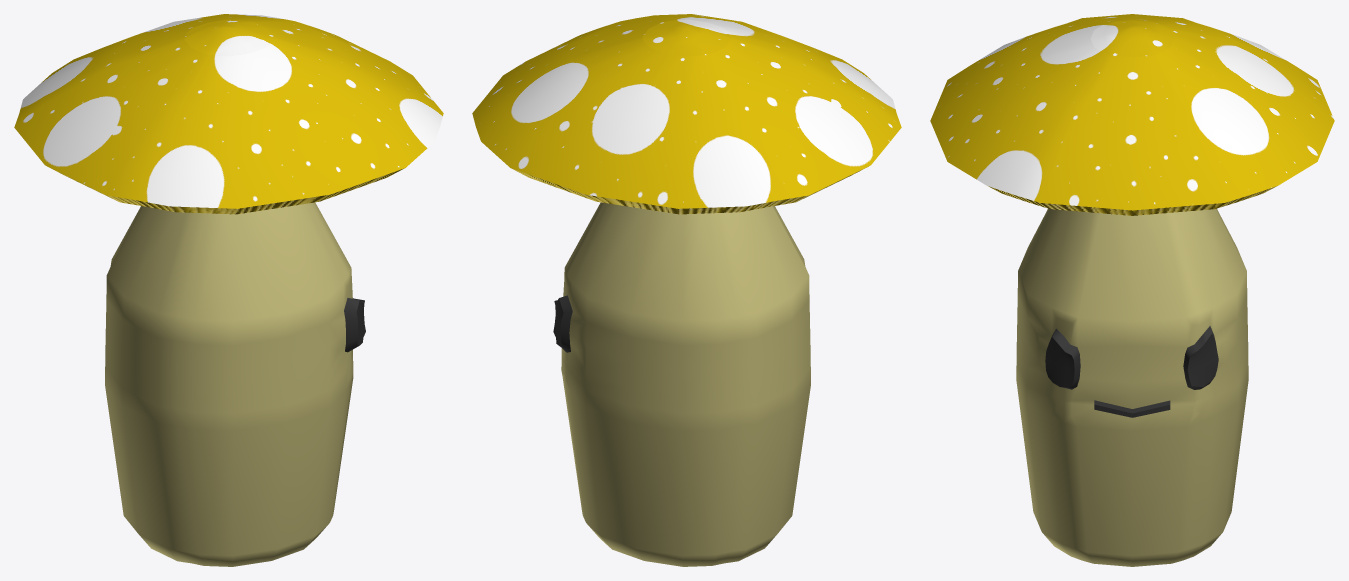
The model's file is mushroomMonster_03_idleBounce.fbx.
3 views of the same model, side by side, from view 1: azimuth 30°, elevation 25°; view 2: azimuth 150°, elevation 25°; view 3: azimuth 270°, elevation 25° (orthographic).
Parts seen in each view (by area): view 1: mushroomBoi_03, mushroomBoi01_cap, mushroomBoi01_ridges; view 2: mushroomBoi_03, mushroomBoi01_cap, mushroomBoi01_ridges; view 3: mushroomBoi_03, mushroomBoi01_cap, mushroomBoi01_ridges.
Part boxes in pixels (x1,y1,x2,y2): mushroomBoi_03: (105,202,365,566); mushroomBoi01_cap: (14,14,443,208); mushroomBoi01_ridges: (47,166,404,214); mushroomBoi_03: (553,202,810,566); mushroomBoi01_cap: (472,14,901,208); mushroomBoi01_ridges: (511,166,868,214); mushroomBoi_03: (1016,208,1248,566); mushroomBoi01_cap: (930,14,1334,210); mushroomBoi01_ridges: (988,186,1276,215).
Size of the model in its own units: 76.12 by 101 by 72.62.
